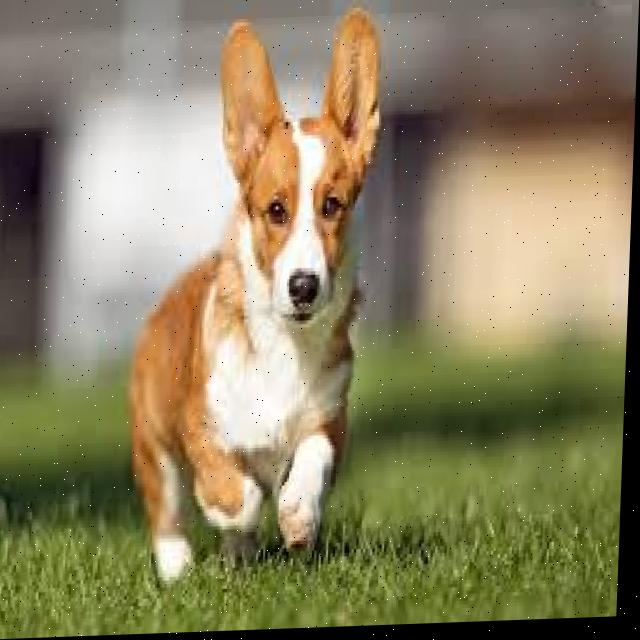CORGI: (83, 0, 396, 598)
